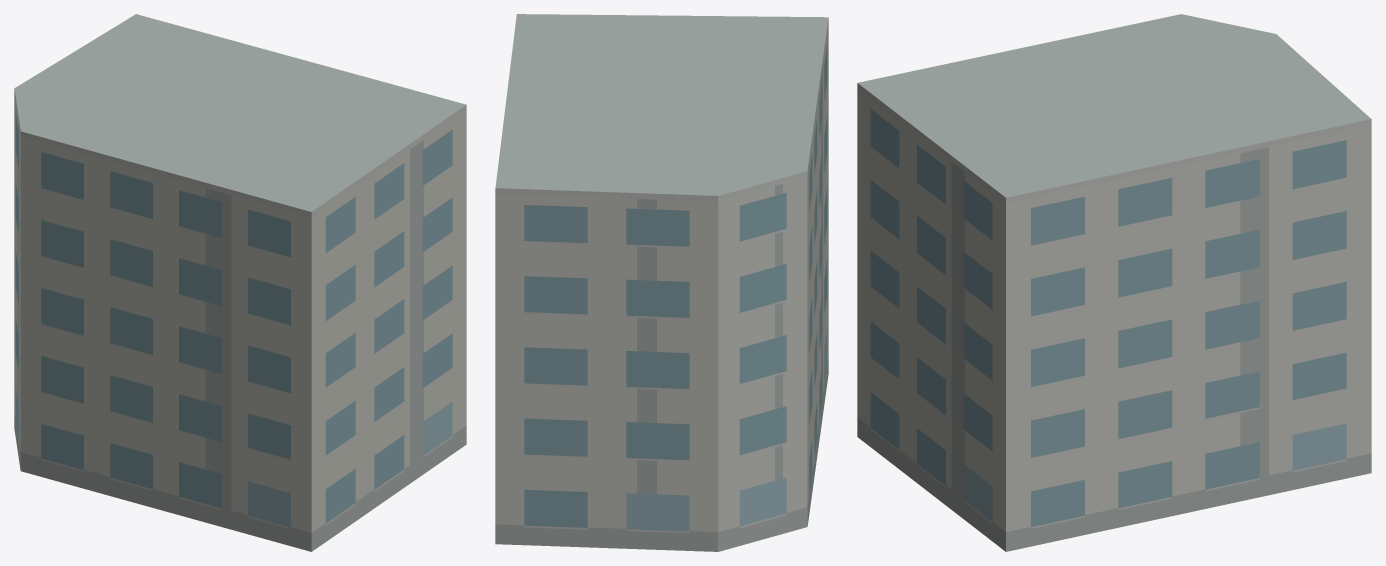
File: survey-upis-32841014.glb
The picture shows the model from 3 angles, left to right: view 1: azimuth 30°, elevation 25°; view 2: azimuth 150°, elevation 25°; view 3: azimuth 270°, elevation 25°; orthographic projection. The views are drawn at different scales.
Parts seen in each view (by area): view 1: survey-upis-32841014.tmp; view 2: survey-upis-32841014.tmp; view 3: survey-upis-32841014.tmp.
Part boxes in pixels (x1,y1,x2,y2): survey-upis-32841014.tmp: [14, 14, 466, 551]; survey-upis-32841014.tmp: [495, 14, 828, 551]; survey-upis-32841014.tmp: [857, 14, 1371, 551].
Size of the model in its own units: 16.27 by 14.6 by 19.22.
